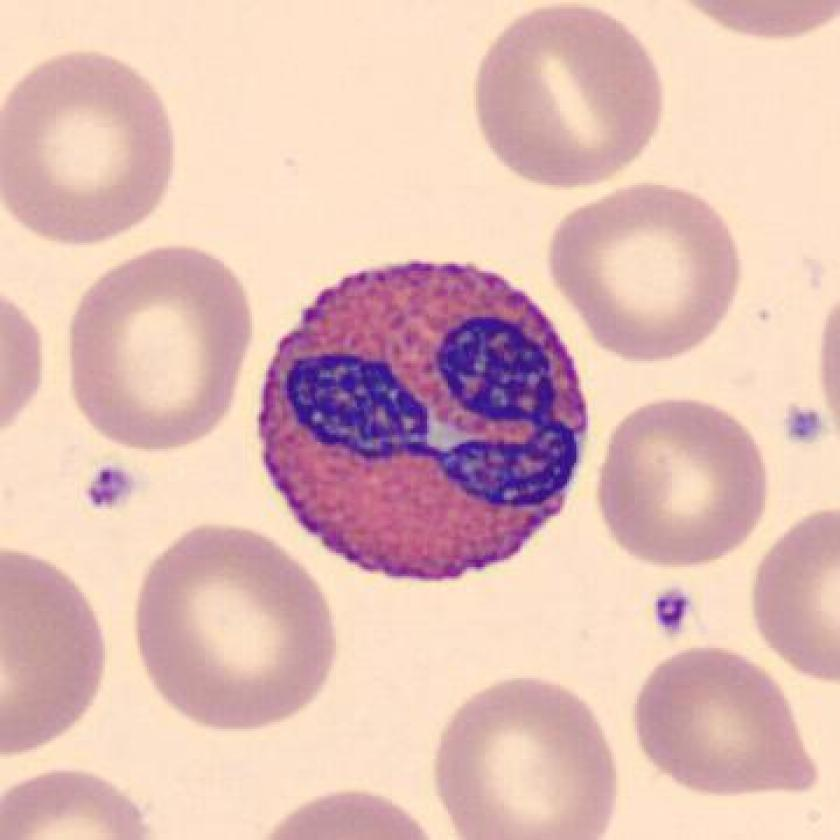eosinophil: (249, 246, 599, 596)
